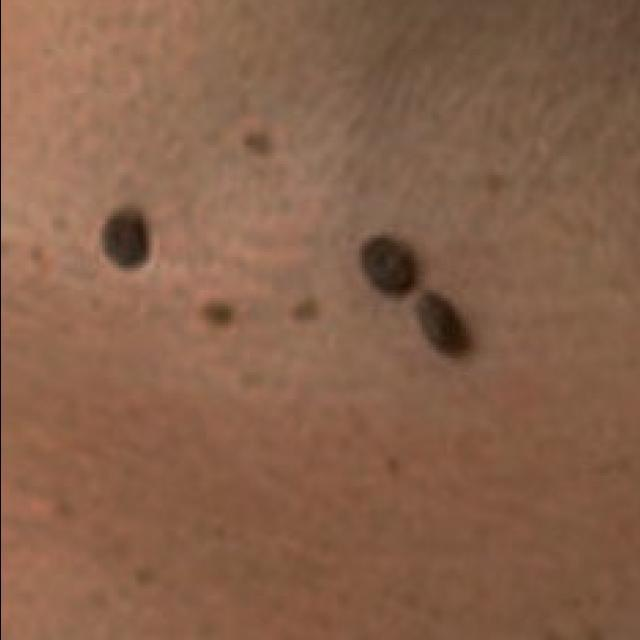wart: (358, 232, 424, 298), (410, 293, 473, 361), (98, 208, 156, 274)
